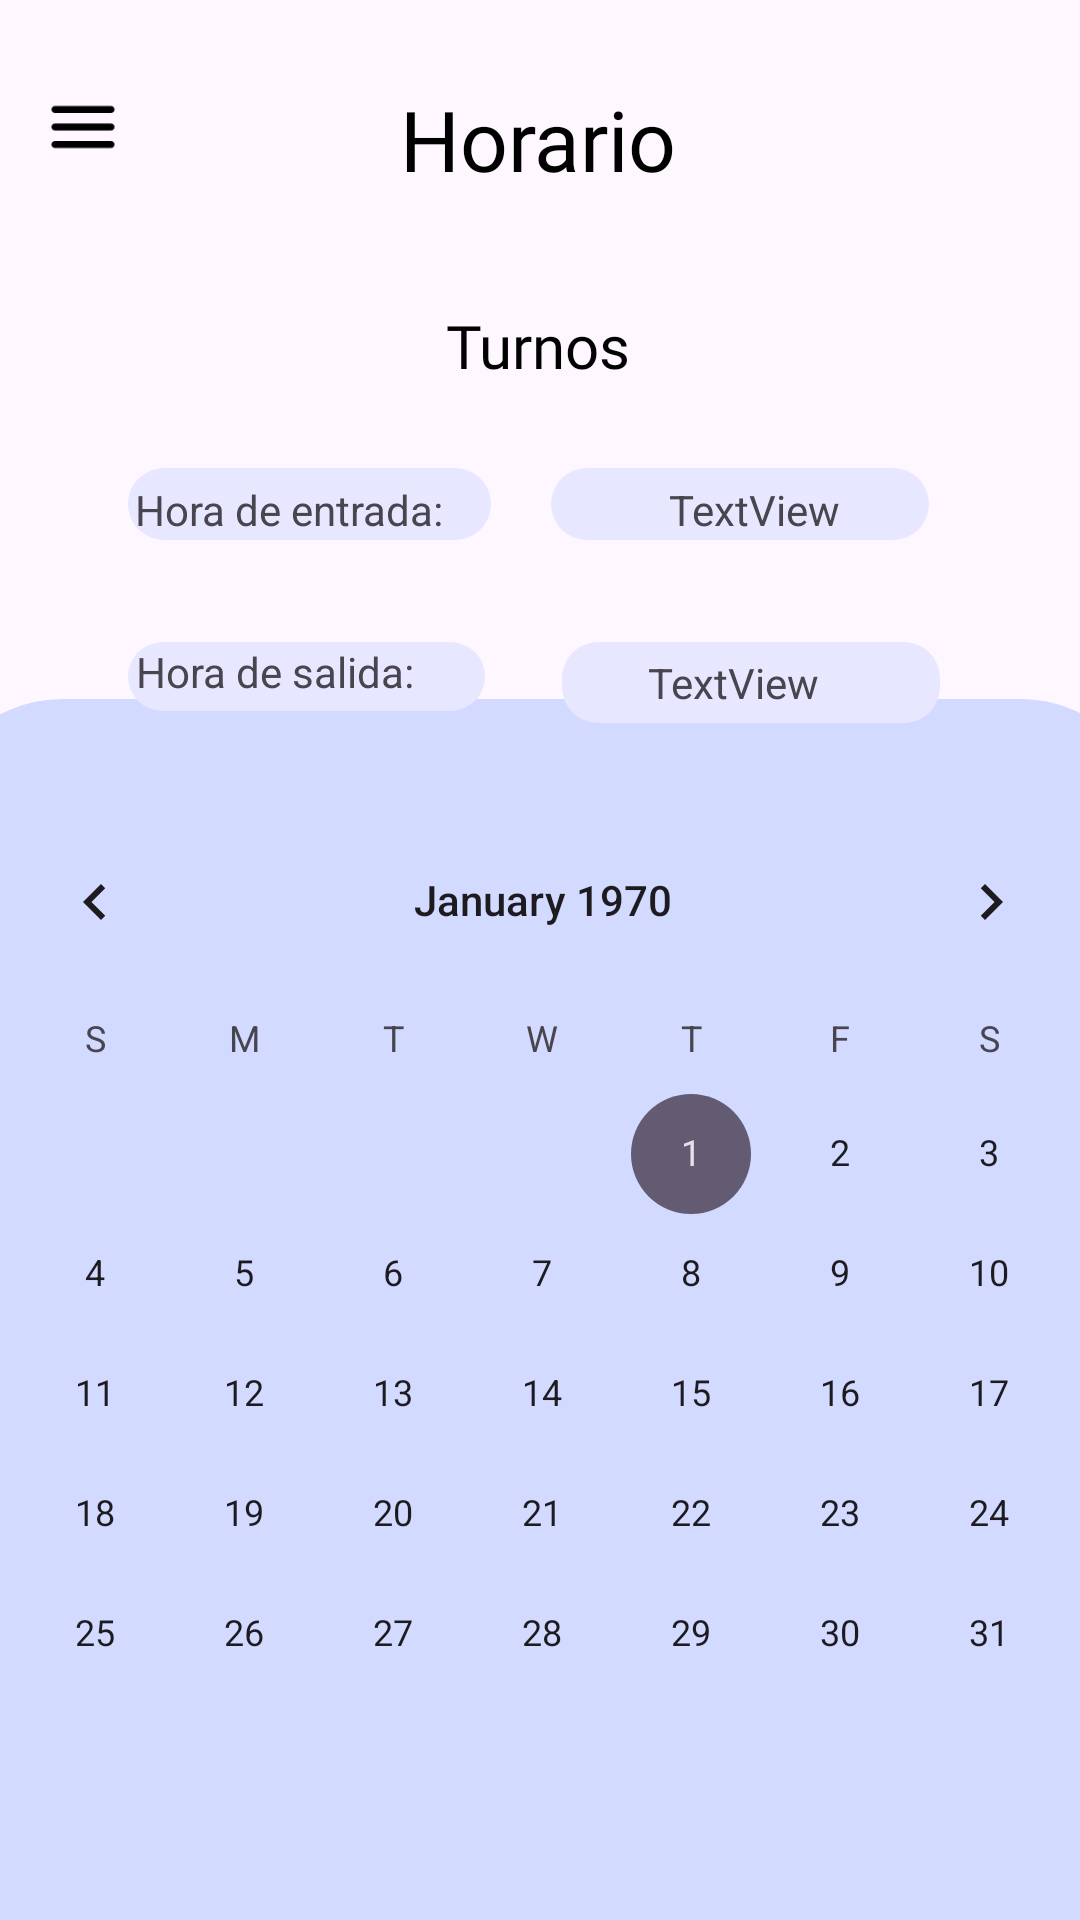

Icon click points for this 1080px x 1920px phone screenshot, format (x=x, y=y):
menu: (x=83, y=127)
